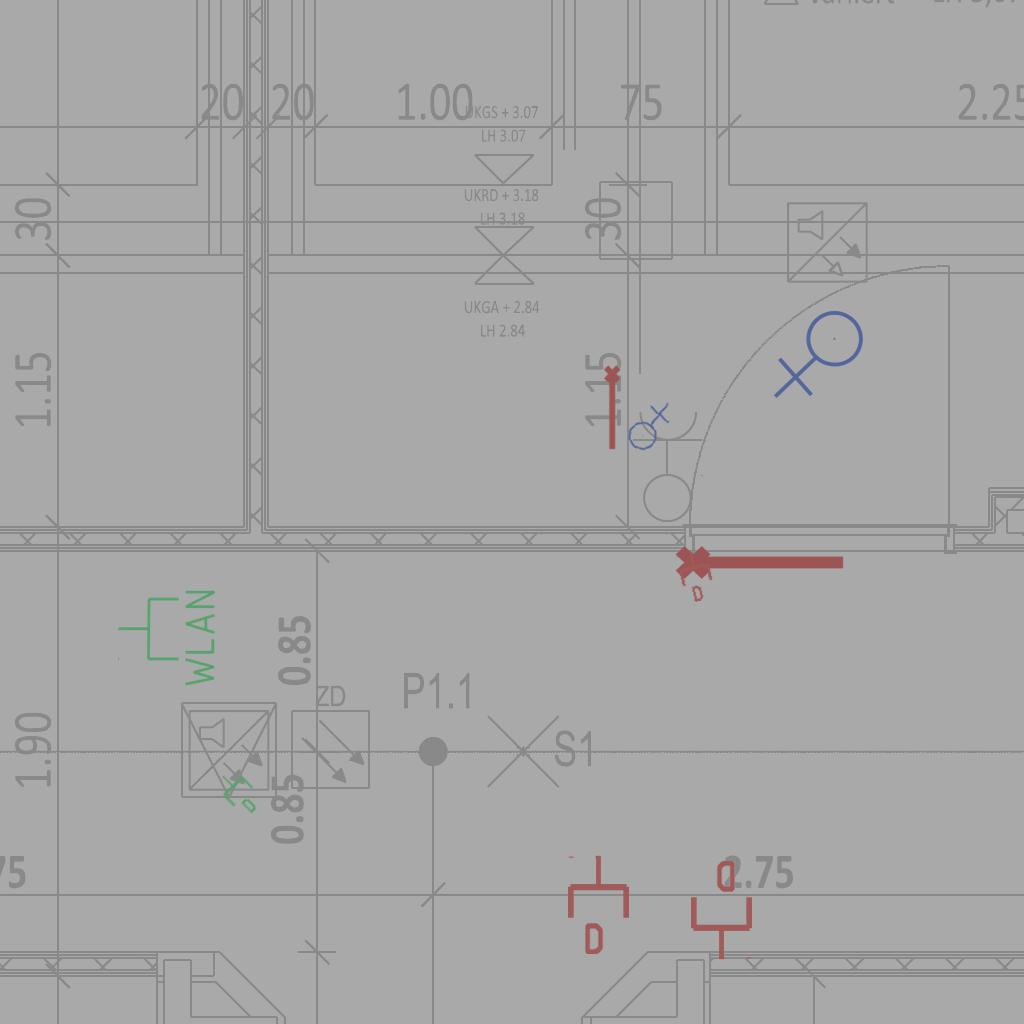ASR_Ansaugoeffnung: (673, 537, 849, 583), (602, 364, 625, 452)
Datenanschluss_einfach: (564, 854, 633, 954), (687, 861, 756, 961), (210, 762, 270, 822), (673, 547, 719, 605)
Elektroanschluss_allgemein_230V_Geraeteanschlussdose_230V: (773, 309, 872, 403), (620, 400, 675, 453)
WLAN: (115, 586, 219, 691)
